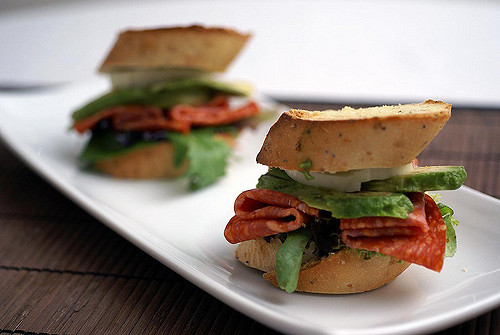slice of bread: (266, 108, 448, 166)
